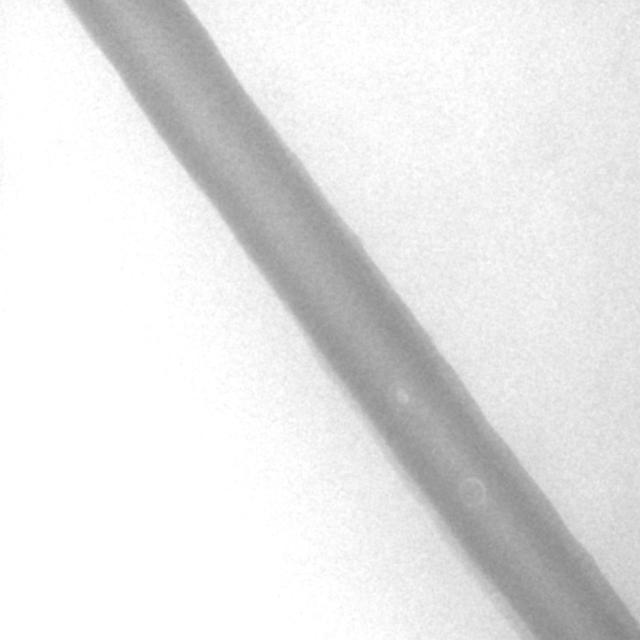air-hole: (398, 389, 412, 406)
